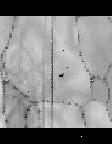good_void: (57, 73, 64, 79)
